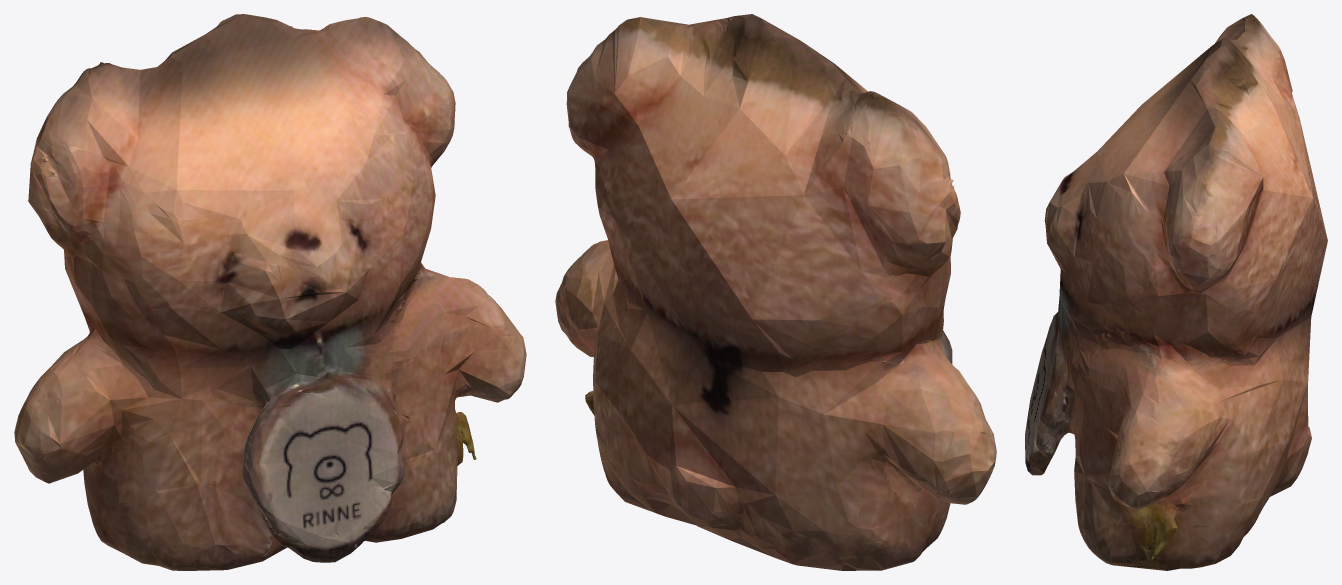
Rendered from renny.obj.
3 renders of one model, left to right at view 1: azimuth 30°, elevation 25°; view 2: azimuth 150°, elevation 25°; view 3: azimuth 270°, elevation 25°, orthographic. The views are drawn at different scales.
Bounding box in the file's own units: 93.59 × 96.36 × 58.14.
Materials: 1 (1 with a texture image).
